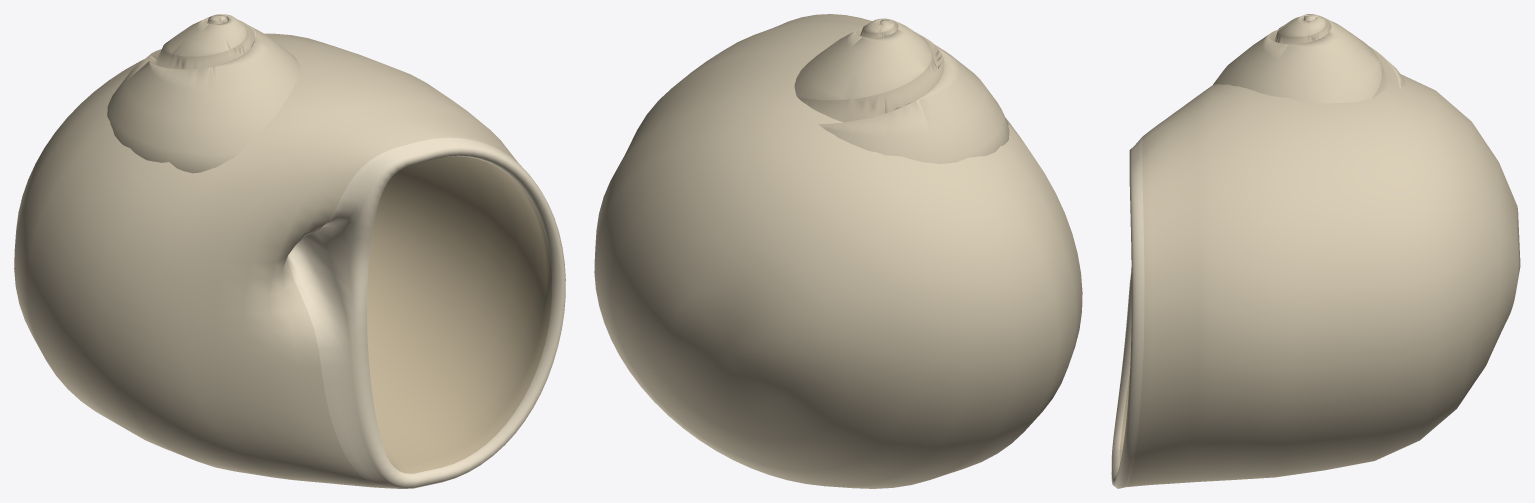
3 renders of one model, left to right at view 1: azimuth 30°, elevation 25°; view 2: azimuth 150°, elevation 25°; view 3: azimuth 270°, elevation 25°, orthographic. The views are drawn at different scales.
Visible parts, largest first — view 1: inflated-body-open-aperture-continuous-lining, low-dextral-spire-continuous-descending-suture; view 2: inflated-body-open-aperture-continuous-lining, low-dextral-spire-continuous-descending-suture; view 3: inflated-body-open-aperture-continuous-lining, low-dextral-spire-continuous-descending-suture.
Boxes of the visible parts, x1=… form: inflated-body-open-aperture-continuous-lining: x1=14, y1=33, x2=565, y2=488; low-dextral-spire-continuous-descending-suture: x1=107, y1=14, x2=300, y2=173; inflated-body-open-aperture-continuous-lining: x1=594, y1=14, x2=1082, y2=488; low-dextral-spire-continuous-descending-suture: x1=794, y1=18, x2=1009, y2=163; inflated-body-open-aperture-continuous-lining: x1=1111, y1=74, x2=1520, y2=488; low-dextral-spire-continuous-descending-suture: x1=1213, y1=14, x2=1404, y2=103.
Size of the model in its own units: 0.03 by 0.028 by 0.025.
